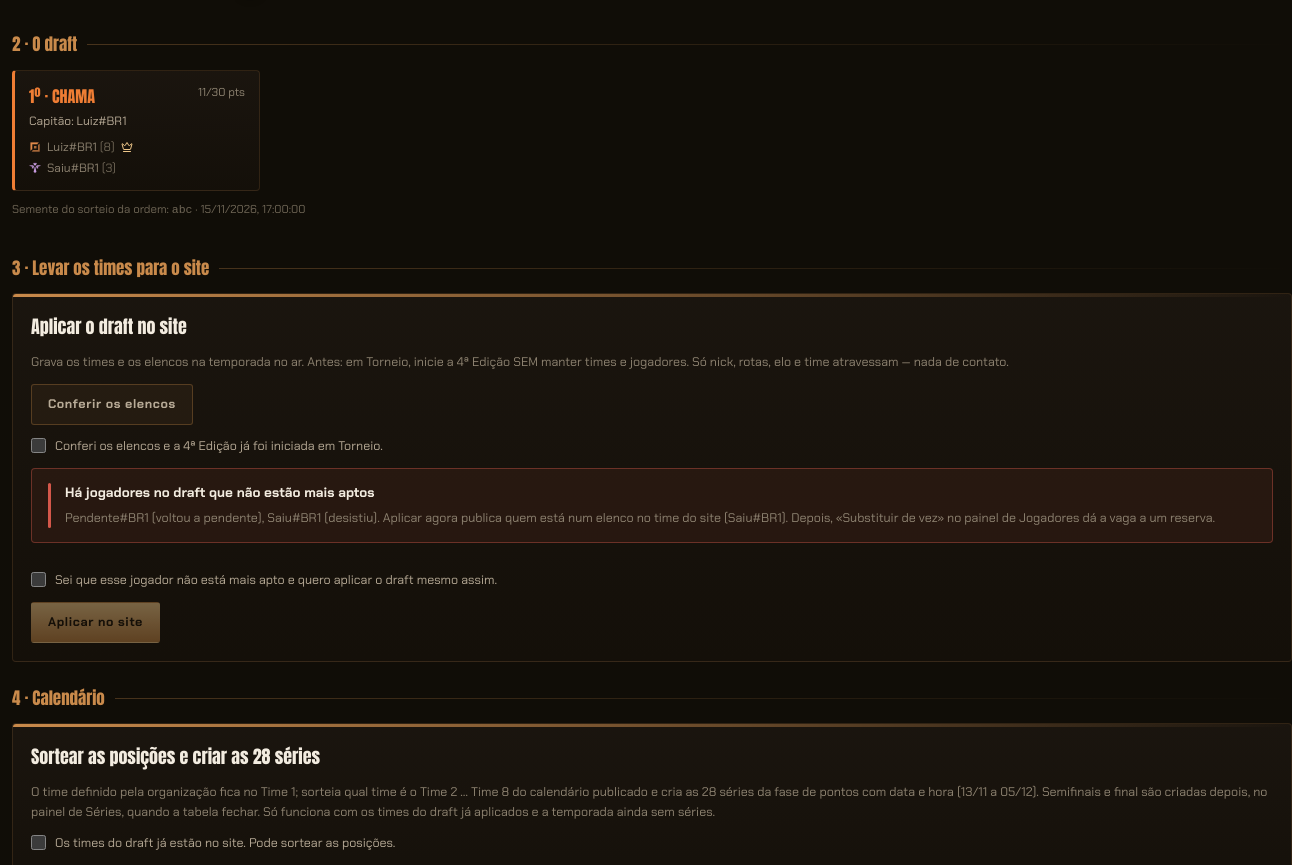
Test case: DRF-03 · jogador do draft que não é mais apto › B6: com alguém do pool E alguém do elenco, a confirmação é só de quem está no elenco
(page scrolled)
Click the checkbox labelled "Conferi os elencos e a 4ª Edição já foi iniciada em Torneio." at (38, 446), box [31,438,46,453]
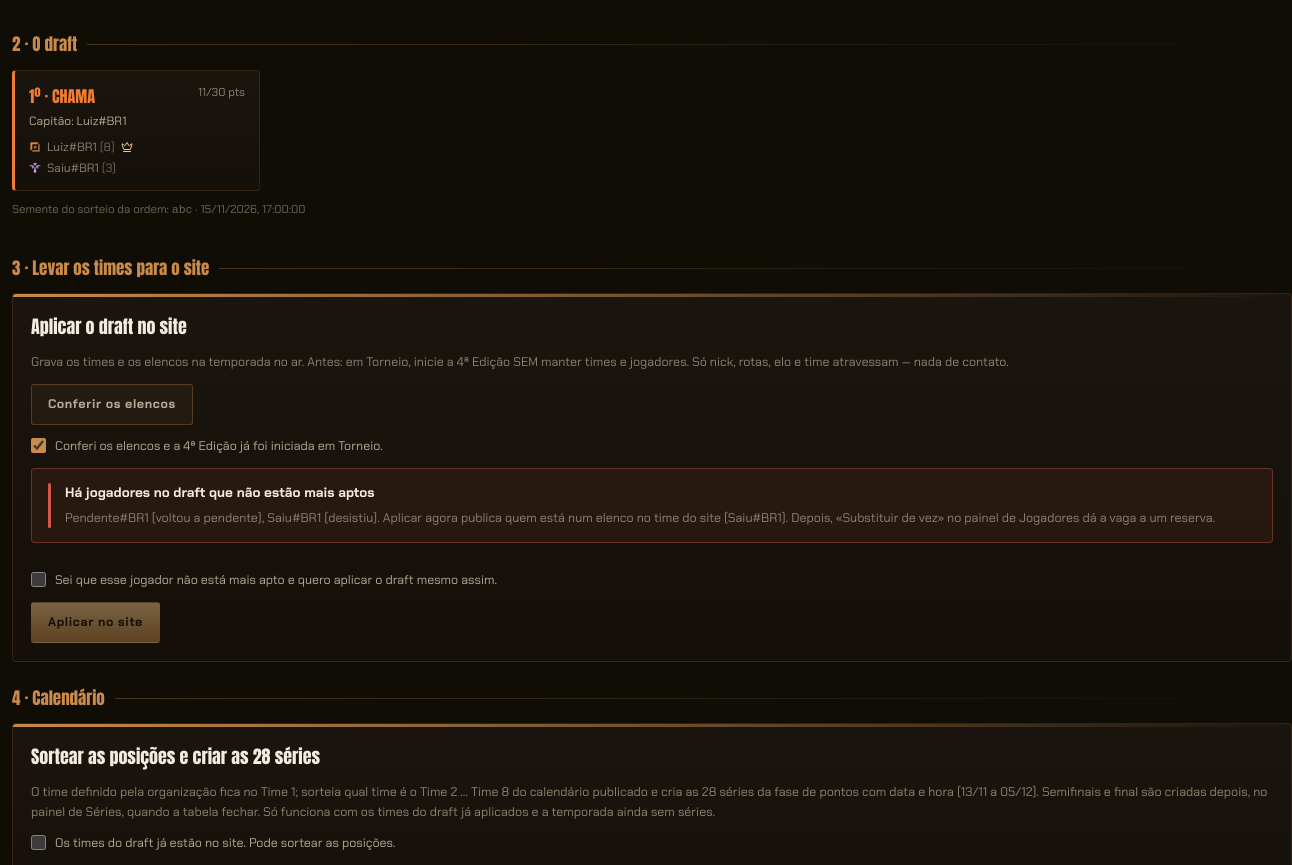
Expected: the button "Aplicar no site" is disabled, [31,602,160,643]
# Um só a confirmar (o do elenco): o texto fala de UM jogador.
Click the checkbox labelled "Sei que esse jogador não está mais apto" at (38, 580), box [31,572,46,587]
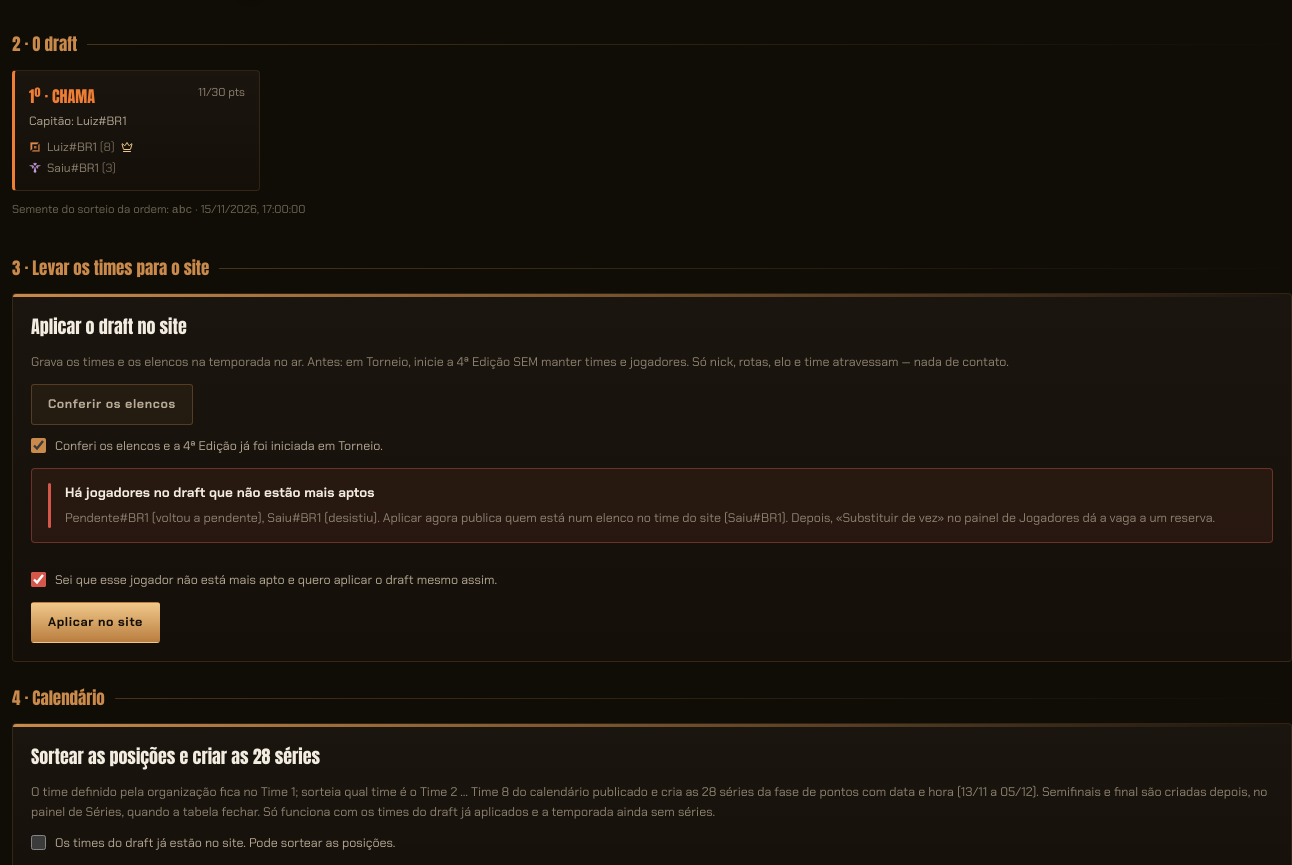
Expected: the button "Aplicar no site" is enabled, [31,602,160,643]
